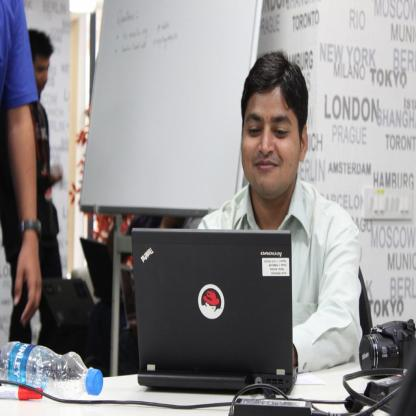board: (130, 228, 298, 395), (0, 341, 102, 397)
